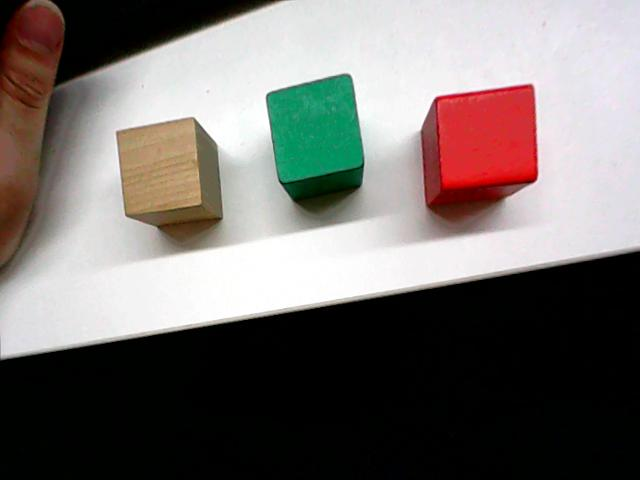green_box: (262, 70, 367, 204)
raw_box: (111, 115, 228, 225)
red_box: (417, 79, 542, 209)
